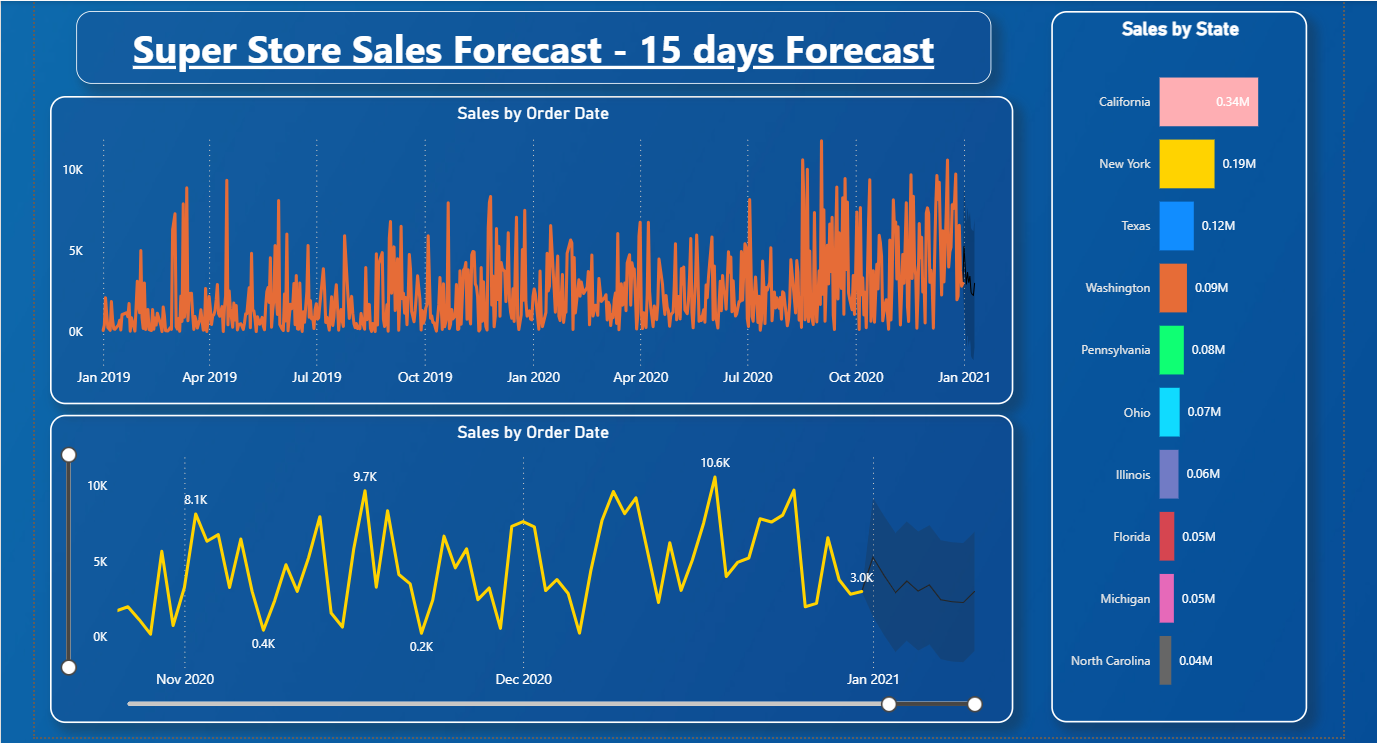

The page's visual inventory and layout, read from the dashboard file:
{"tool":"powerbi","page":{"name":"Page 2","canvas":[1280,720],"ordinal":1},"visuals":[{"type":"lineChart","title":"Sales by Order Date","fields":{"Y":["Sum(SuperStore_Sales_Dataset.Sales)"],"Category":["SuperStore_Sales_Dataset.Order Date"]},"box":[15,92.5,942.5,301.2],"z":0},{"type":"lineChart","title":"Sales by Order Date","fields":{"Y":["Sum(SuperStore_Sales_Dataset.Sales)"],"Category":["SuperStore_Sales_Dataset.Order Date"]},"box":[15,405,942.5,301.2],"z":1000},{"type":"textbox","box":[40,10,895,71.2],"z":2000},{"type":"clusteredBarChart","title":"Sales by State","fields":{"Y":["Sum(SuperStore_Sales_Dataset.Sales)"],"Category":["SuperStore_Sales_Dataset.State"]},"box":[993.8,10,250,696.2],"z":3000}]}

Visuals, with their boxes in screenshot pixels (x1, y1, x2, y2):
"Sales by Order Date" lineChart: select_region(51, 94, 1009, 400)
"Sales by Order Date" lineChart: select_region(51, 412, 1009, 718)
textbox: select_region(77, 10, 986, 83)
"Sales by State" clusteredBarChart: select_region(1046, 10, 1300, 718)
